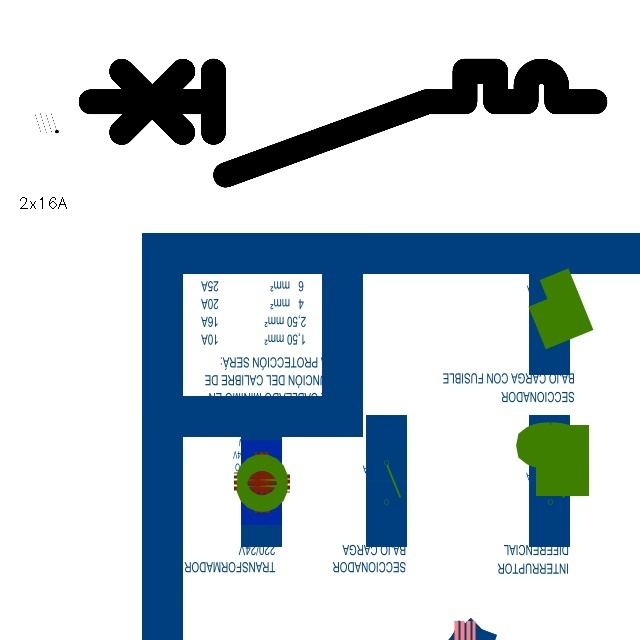interruptor_termomagnetico: (77, 58, 607, 187)
